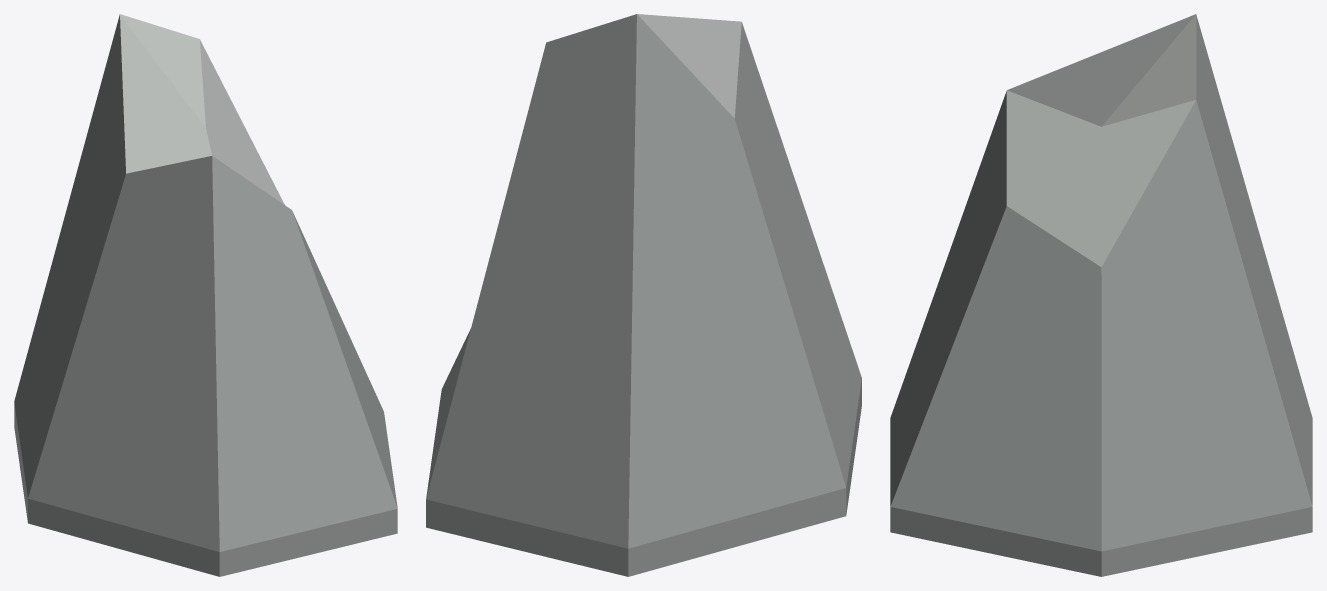
Rendered from Mountain1.fbx.
The picture shows the model from 3 angles, left to right: view 1: azimuth 30°, elevation 25°; view 2: azimuth 150°, elevation 25°; view 3: azimuth 270°, elevation 25°; orthographic projection. The views are drawn at different scales.
Parts seen in each view (by area): view 1: Mountain1; view 2: Mountain1; view 3: Mountain1.
Part boxes in pixels (x1,y1,x2,y2): Mountain1: [14, 14, 397, 576]; Mountain1: [426, 14, 861, 576]; Mountain1: [890, 14, 1312, 576].
Size of the model in its own units: 1500 by 1779 by 1500.
